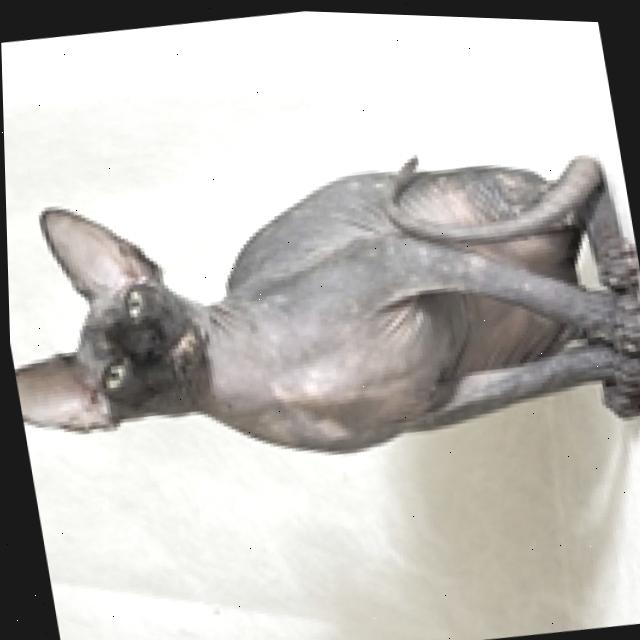Sphynx: (2, 106, 640, 503)
